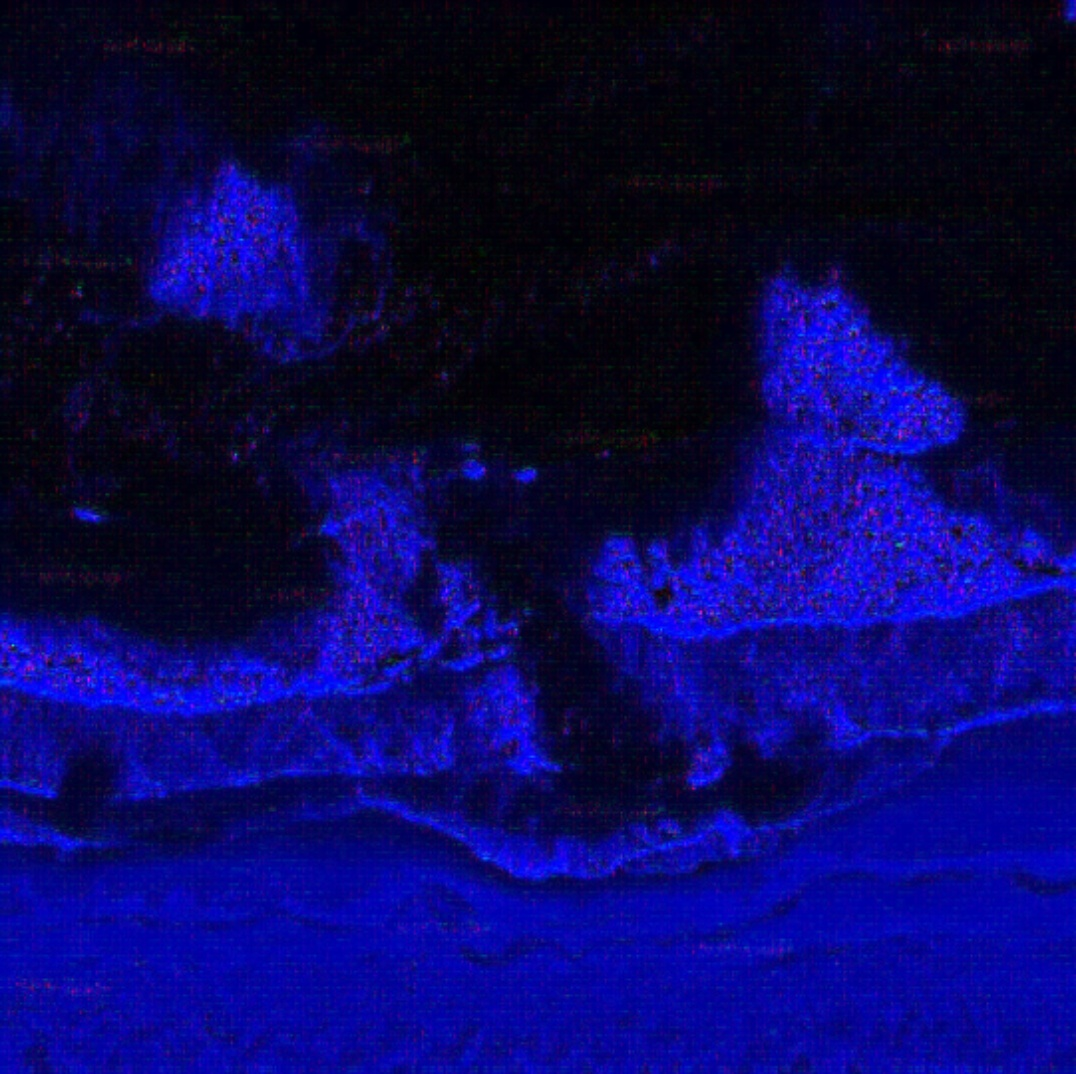rip_current: (327, 397, 705, 785)
